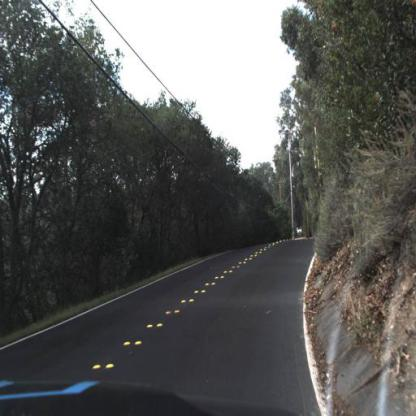car: (295, 223, 307, 241)
